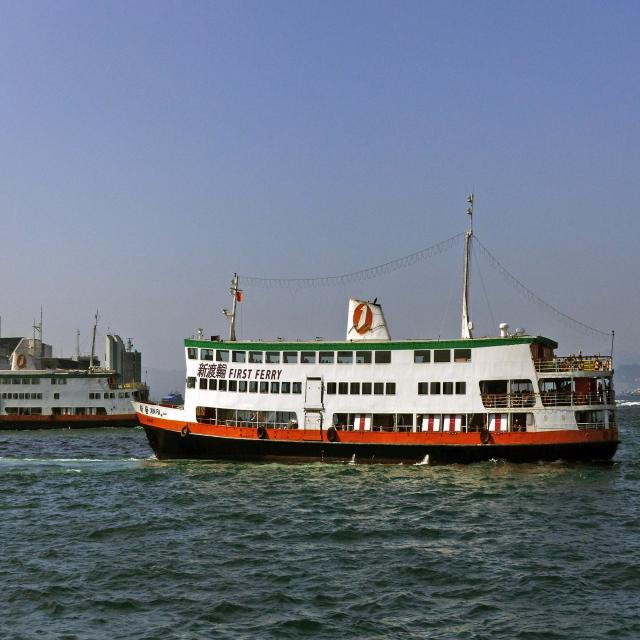houseboat: (122, 252, 623, 464)
